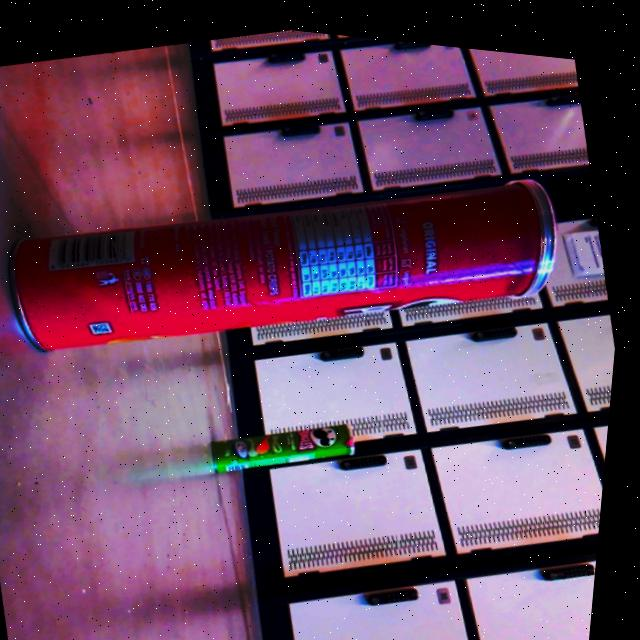greenpringles: (206, 389, 370, 485)
redpringles: (0, 110, 592, 419)
